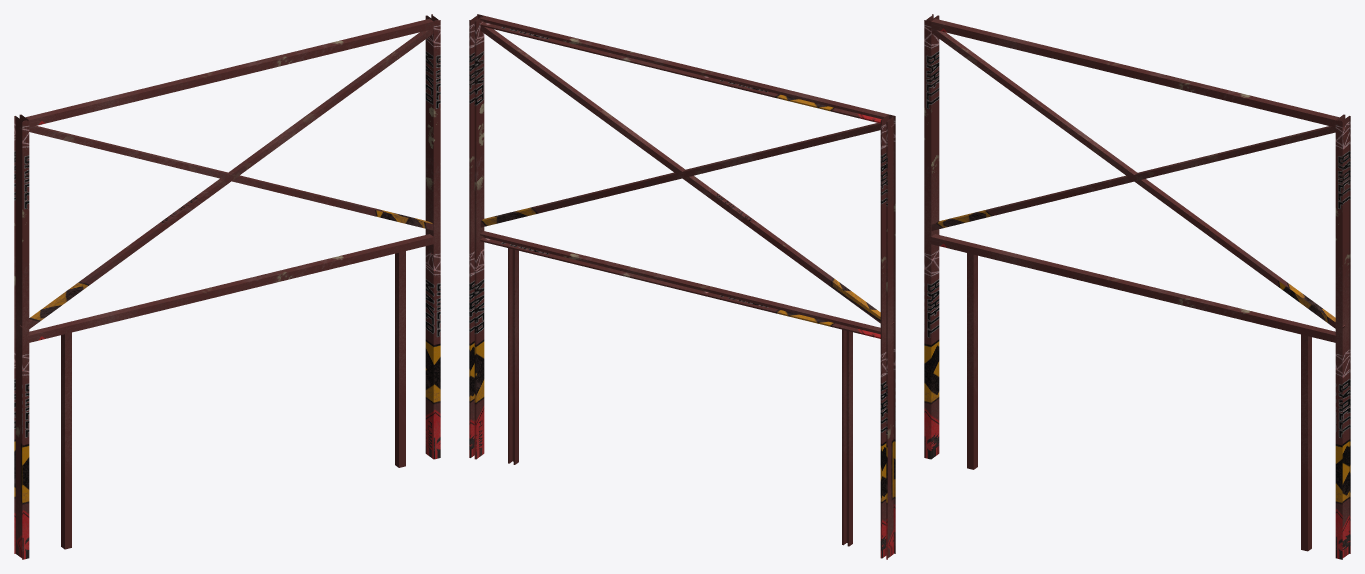
File: CS_formwork_system_large_03.FBX
3 views of the same model, side by side, from view 1: azimuth 30°, elevation 25°; view 2: azimuth 150°, elevation 25°; view 3: azimuth 330°, elevation 25° (orthographic).
Parts seen in each view (by area): view 1: SM_formwork_system_large_03; view 2: SM_formwork_system_large_03; view 3: SM_formwork_system_large_03.
Boxes of the visible parts, left/top/right/bottom form: SM_formwork_system_large_03: left=14, top=14, right=440, bottom=559; SM_formwork_system_large_03: left=469, top=14, right=895, bottom=559; SM_formwork_system_large_03: left=924, top=14, right=1350, bottom=559.
Size of the model in its own units: 600 by 20 by 600.
